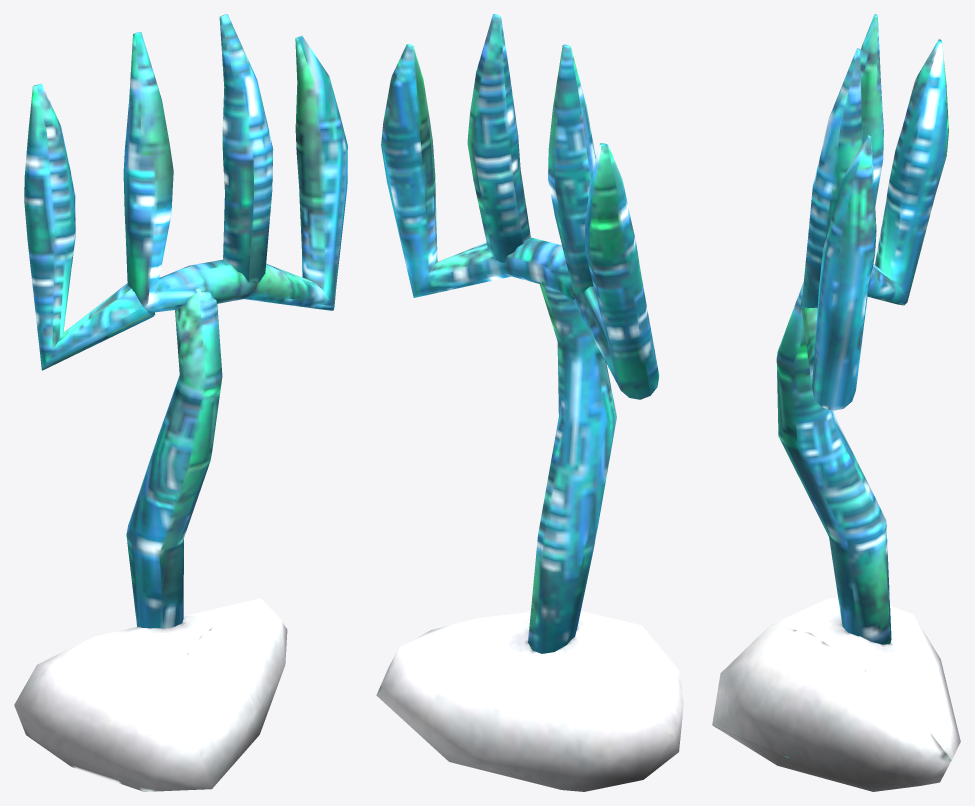
The model's file is BlueGrass.glb.
The picture shows the model from 3 angles, left to right: view 1: azimuth 30°, elevation 25°; view 2: azimuth 150°, elevation 25°; view 3: azimuth 270°, elevation 25°; orthographic projection. The views are drawn at different scales.
Visible parts, largest first — view 1: 平面.007, 棱角球; view 2: 平面.007, 棱角球; view 3: 平面.007, 棱角球.
Boxes of the visible parts, x1=… form: 平面.007: x1=24, y1=14, x2=347, y2=628; 棱角球: x1=14, y1=598, x2=287, y2=791; 平面.007: x1=381, y1=14, x2=659, y2=653; 棱角球: x1=376, y1=611, x2=683, y2=791; 平面.007: x1=776, y1=14, x2=948, y2=644; 棱角球: x1=712, y1=598, x2=960, y2=791.
Size of what is drawn, in the model's own units: 2.43 by 5.52 by 1.66.
2 materials, 2 textured.
